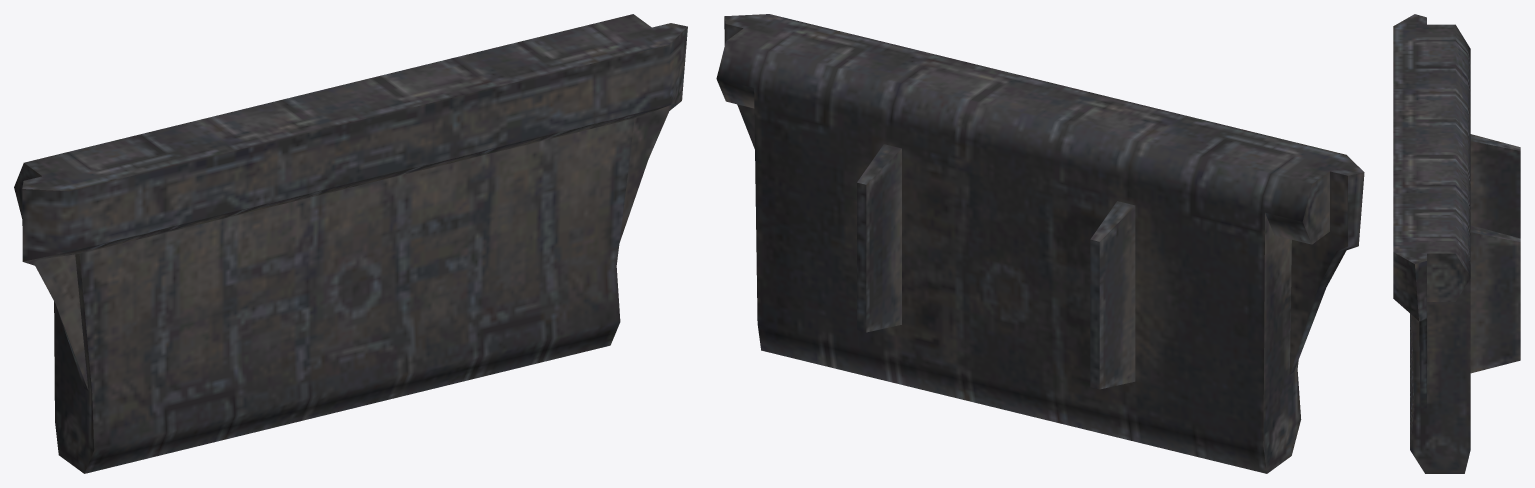
3 views of the same model, side by side, from view 1: azimuth 30°, elevation 25°; view 2: azimuth 150°, elevation 25°; view 3: azimuth 270°, elevation 25° (orthographic). The views are drawn at different scales.
Visible parts, largest first — view 1: set_0_group_0; view 2: set_0_group_0; view 3: set_0_group_0.
Part boxes in pixels (<box>): set_0_group_0: <box>14,14,687,473</box>; set_0_group_0: <box>716,14,1364,473</box>; set_0_group_0: <box>1393,14,1520,473</box>.
Bounding box in the file's own units: 0.602 × 0.2651 × 0.1297.
1 material, 1 textured.
